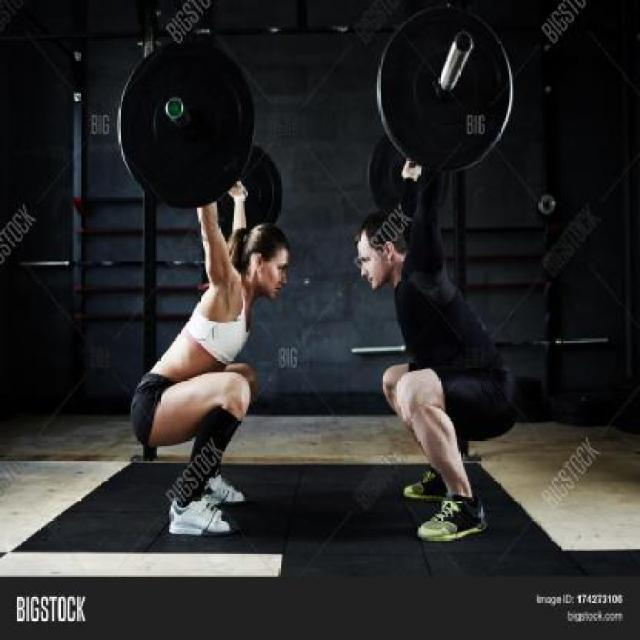barbell: (111, 27, 266, 218), (380, 1, 520, 175)
